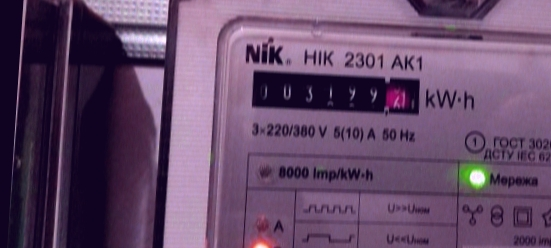0: (279, 79, 291, 99), (256, 79, 266, 97)
1: (323, 79, 333, 98)
3: (301, 81, 312, 101)
6: (389, 92, 400, 106)
9: (344, 80, 355, 100), (366, 83, 377, 102)
screen: (241, 57, 426, 123)
